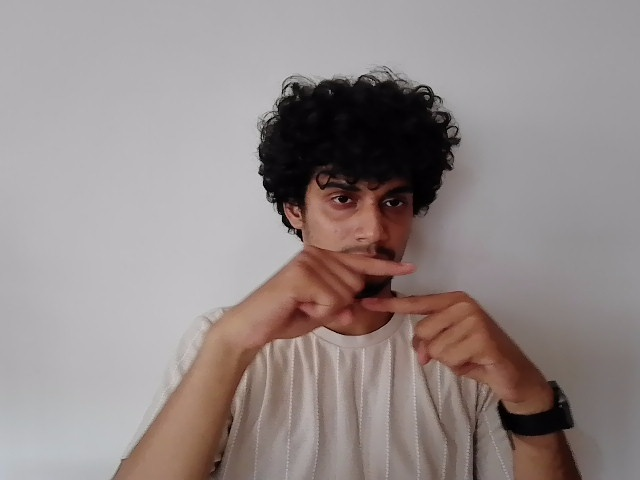about: (215, 243, 540, 400)
